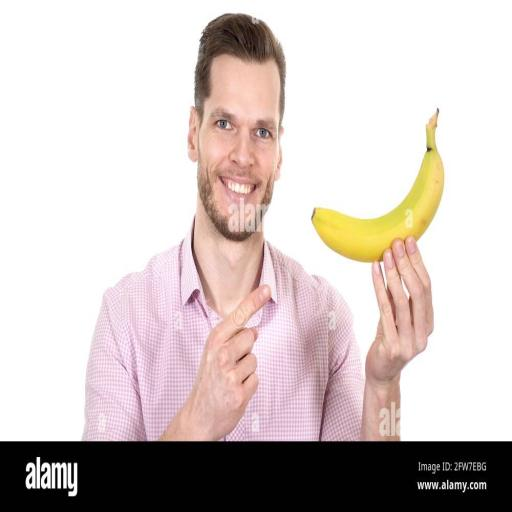banana: (312, 109, 443, 261)
